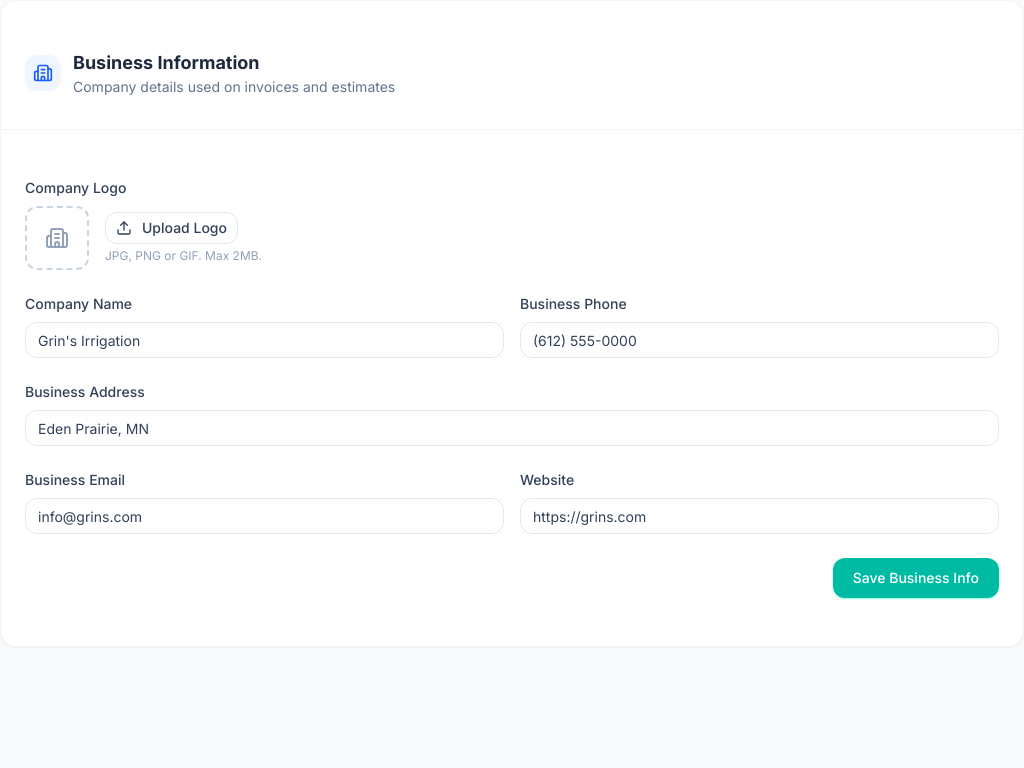
Scenario: BusinessInfo › shows validation error for empty company name
Clear the field with test id "bi-company-name-input": (264, 340) [25, 322, 504, 358]
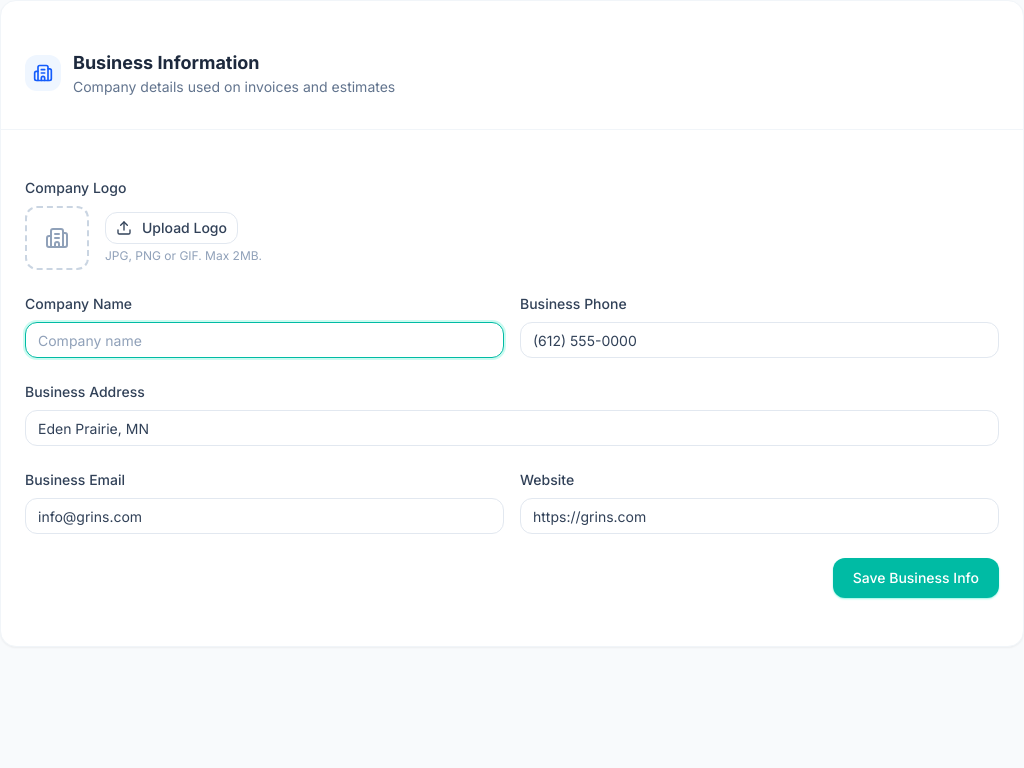
Click the button with test id "save-business-info-btn": (916, 578) [833, 558, 999, 598]
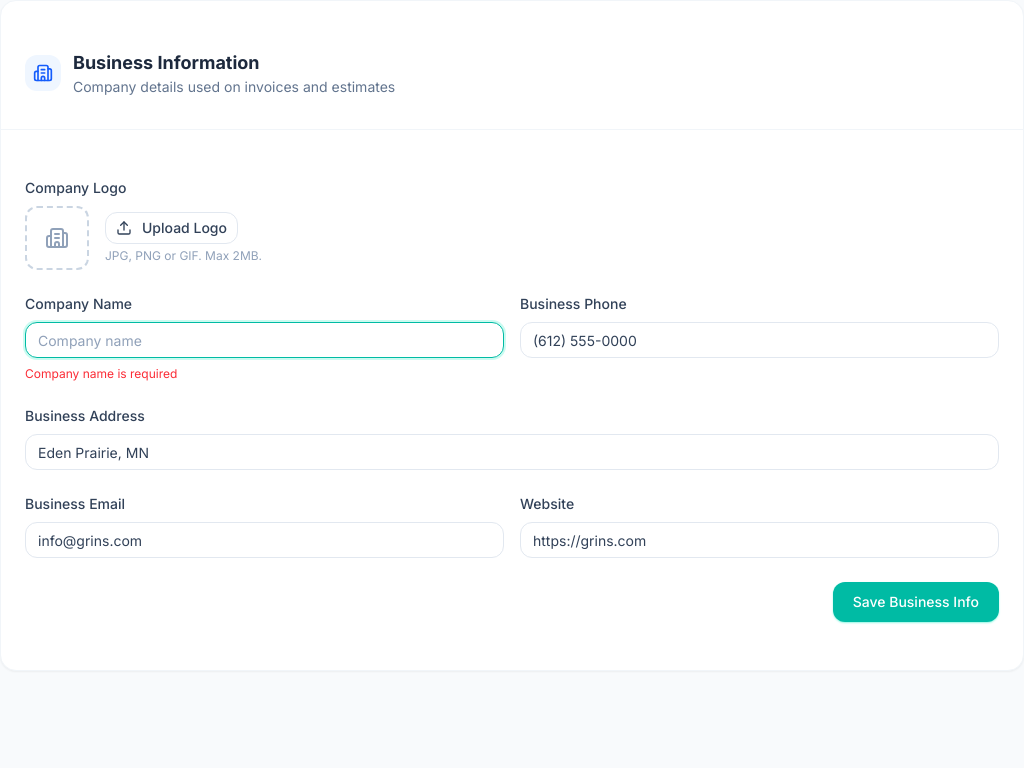
Expected: the text "Company name is required" is shown, [25, 366, 177, 381]
